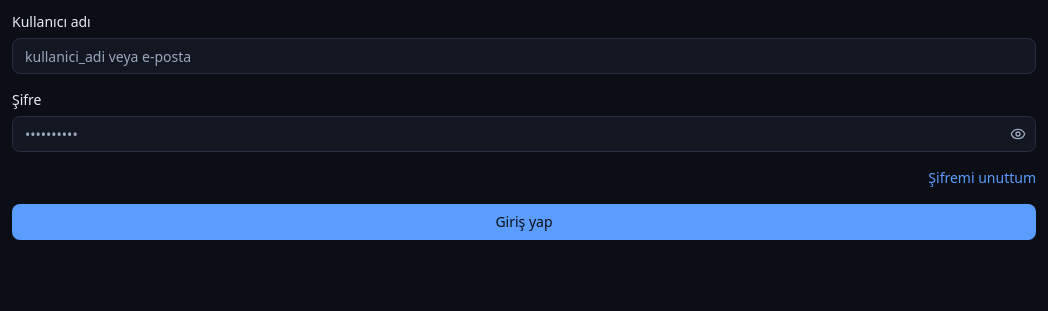
Test case: LoginForm › geçersiz kimlikte backend hatasını gösterir
The width and height of the screenshot is (1048, 311).
Expected: the button "Giriş yap" is shown, 12,204 -> 1036,240
Type "efe" into the field labelled "Kullanıcı adı".
click(524, 56); type("efe")  # box 12,38 -> 1036,74
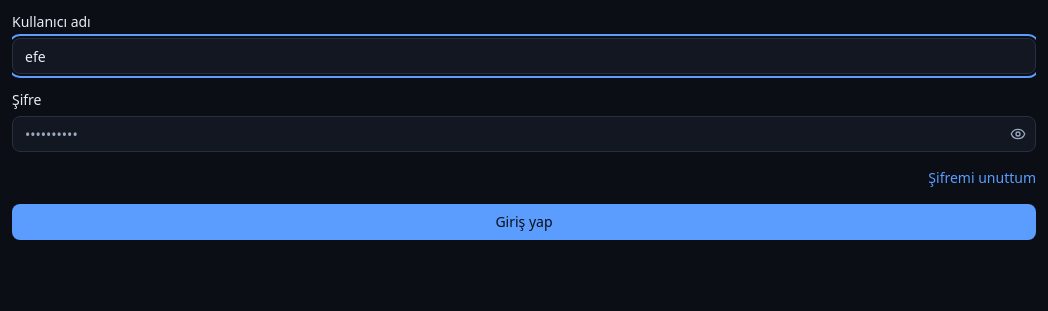
Type "wrong-password" into the password field labelled "Şifre".
click(524, 134); type("wrong-password")  # box 12,116 -> 1036,152
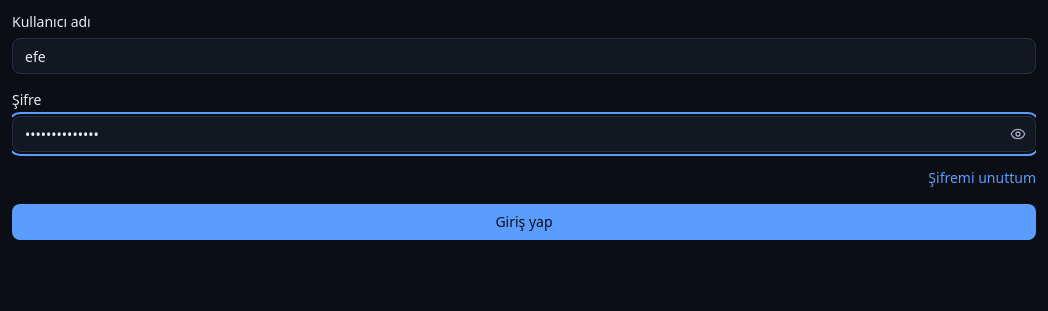
Click the button "Giriş yap".
click(524, 222)  # box 12,204 -> 1036,240
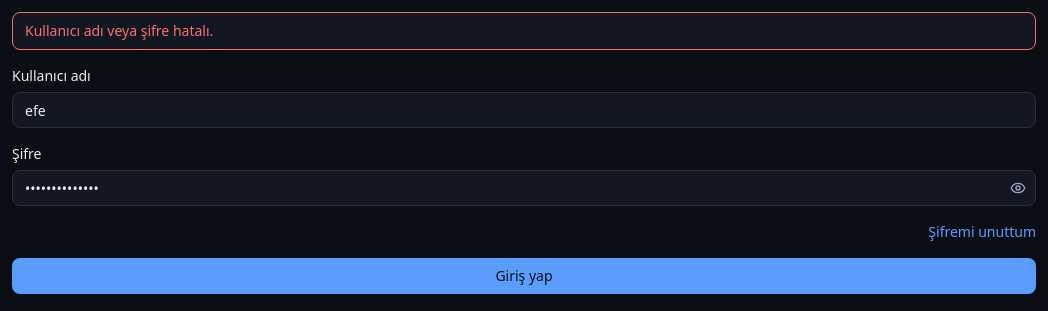
Expected: the text "Kullanıcı adı veya şifre hatalı." is shown, 12,12 -> 1036,50
